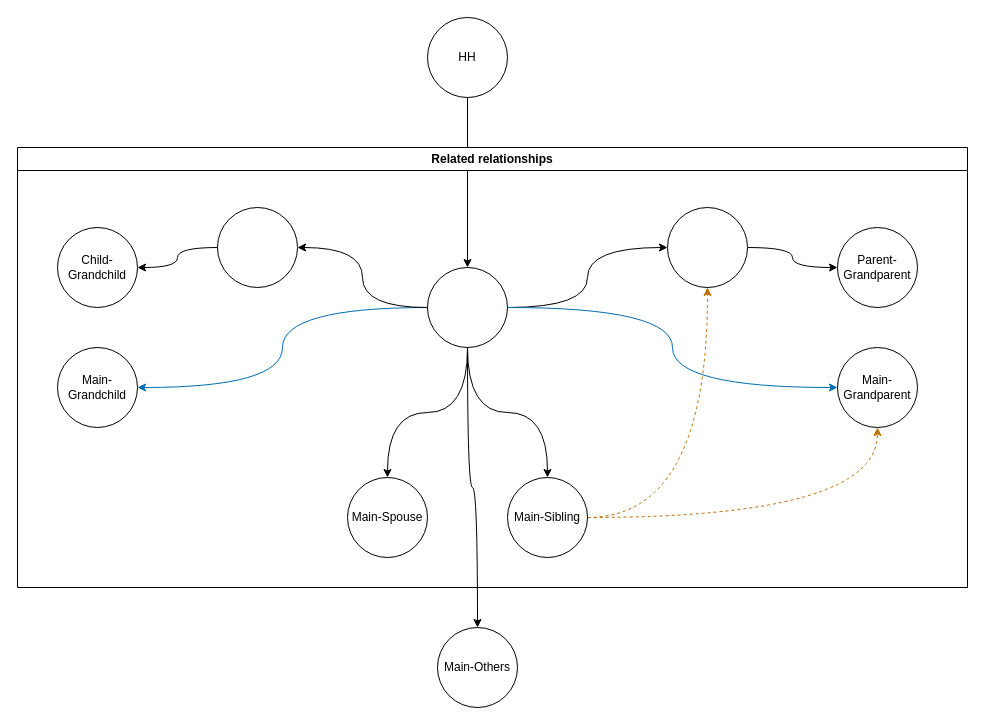
Some shapes in this 985 by 725 pixel diagram are drawn without their labels. The centre of each missing label's shape, as x and y in pixels:
"HH-Main" belongs at (467,307).
"Main-Child" belongs at (257,247).
"Main-Parent" belongs at (707,247).
